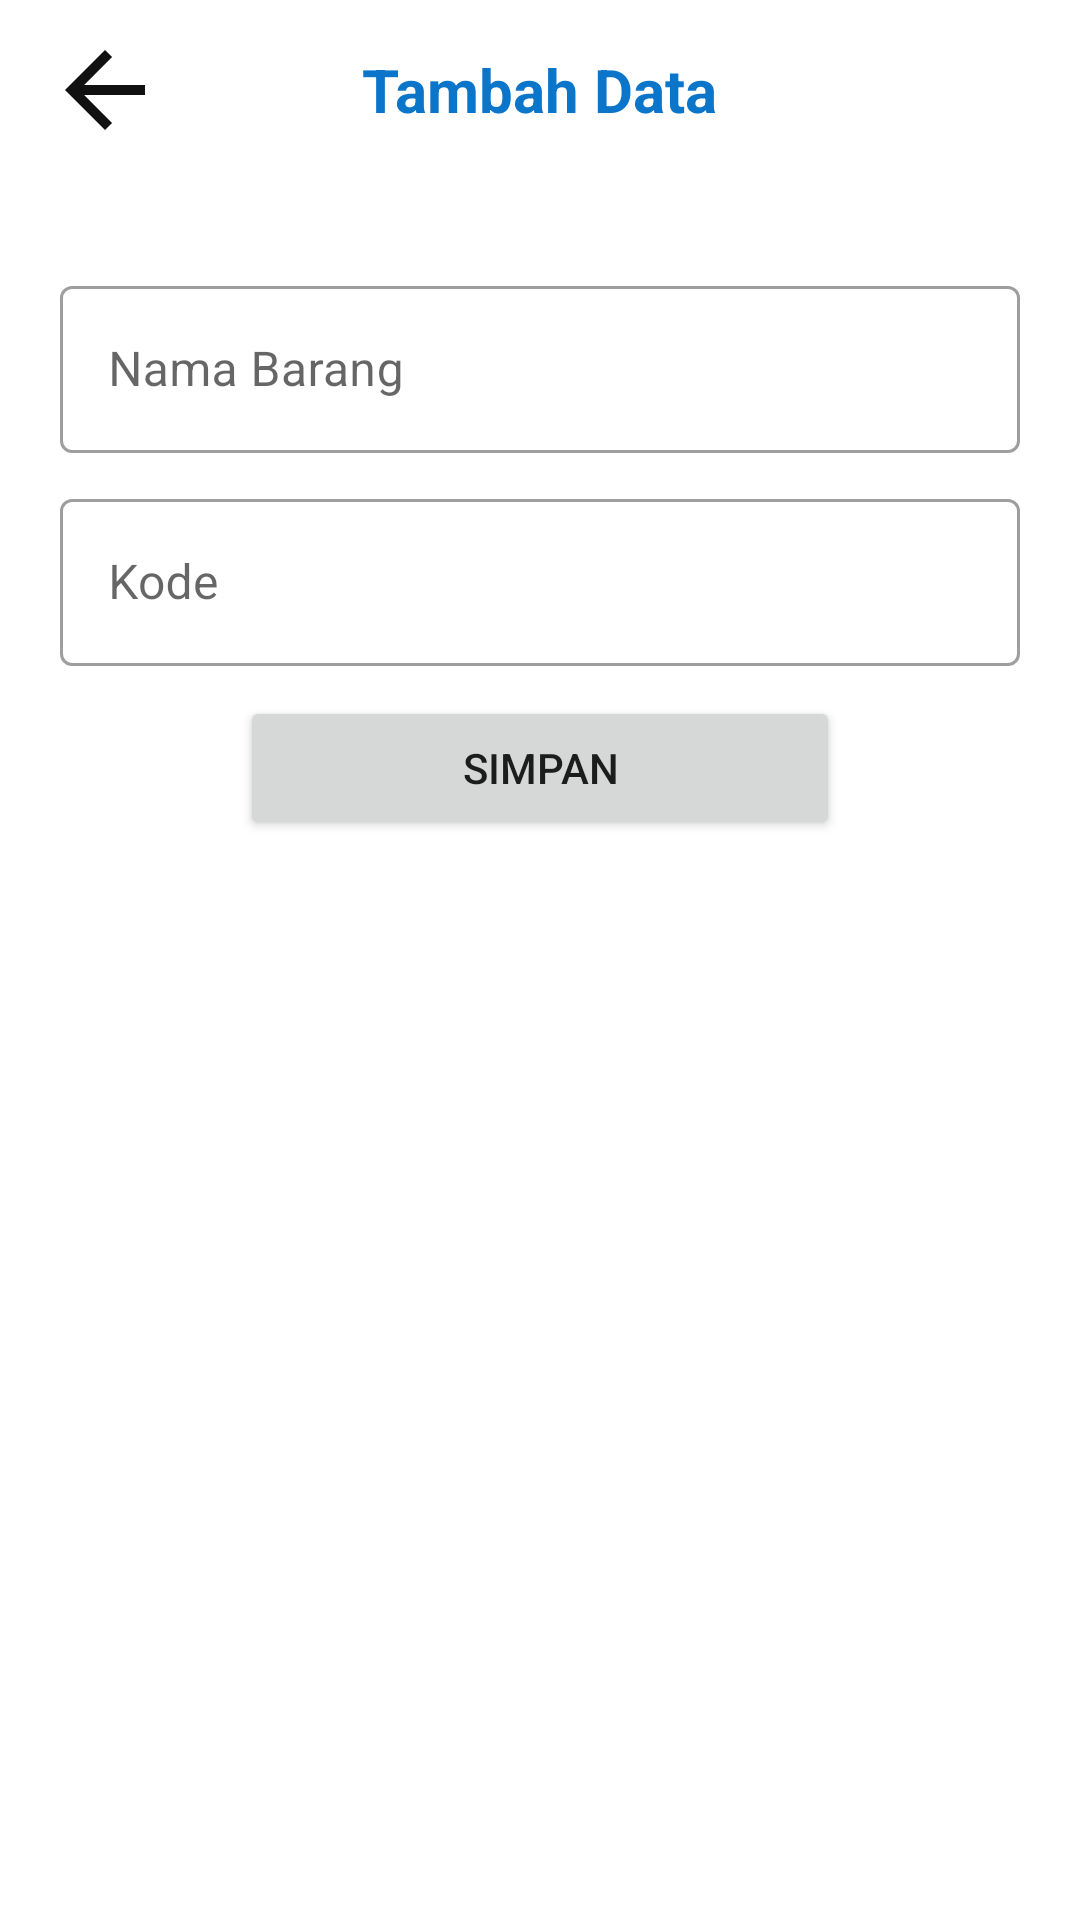

Icons on this 1080x1920 Android screen, each with the point to tap as [x,y]:
back: [105,90]
